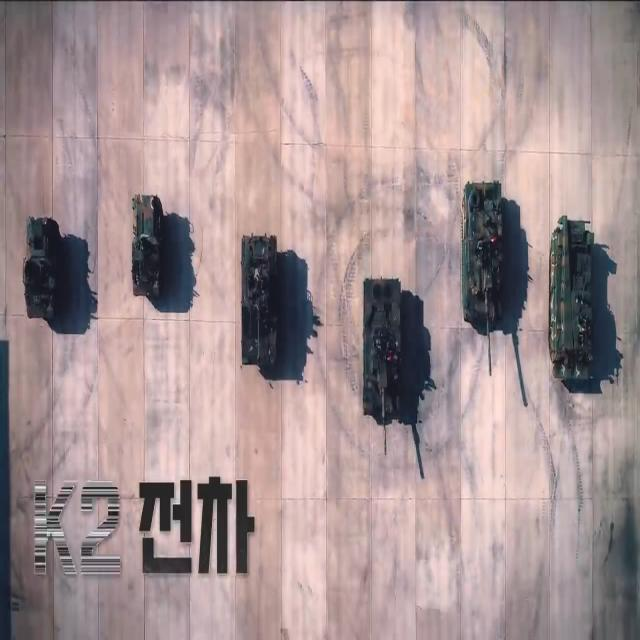korea tank: (460, 178, 506, 378)
